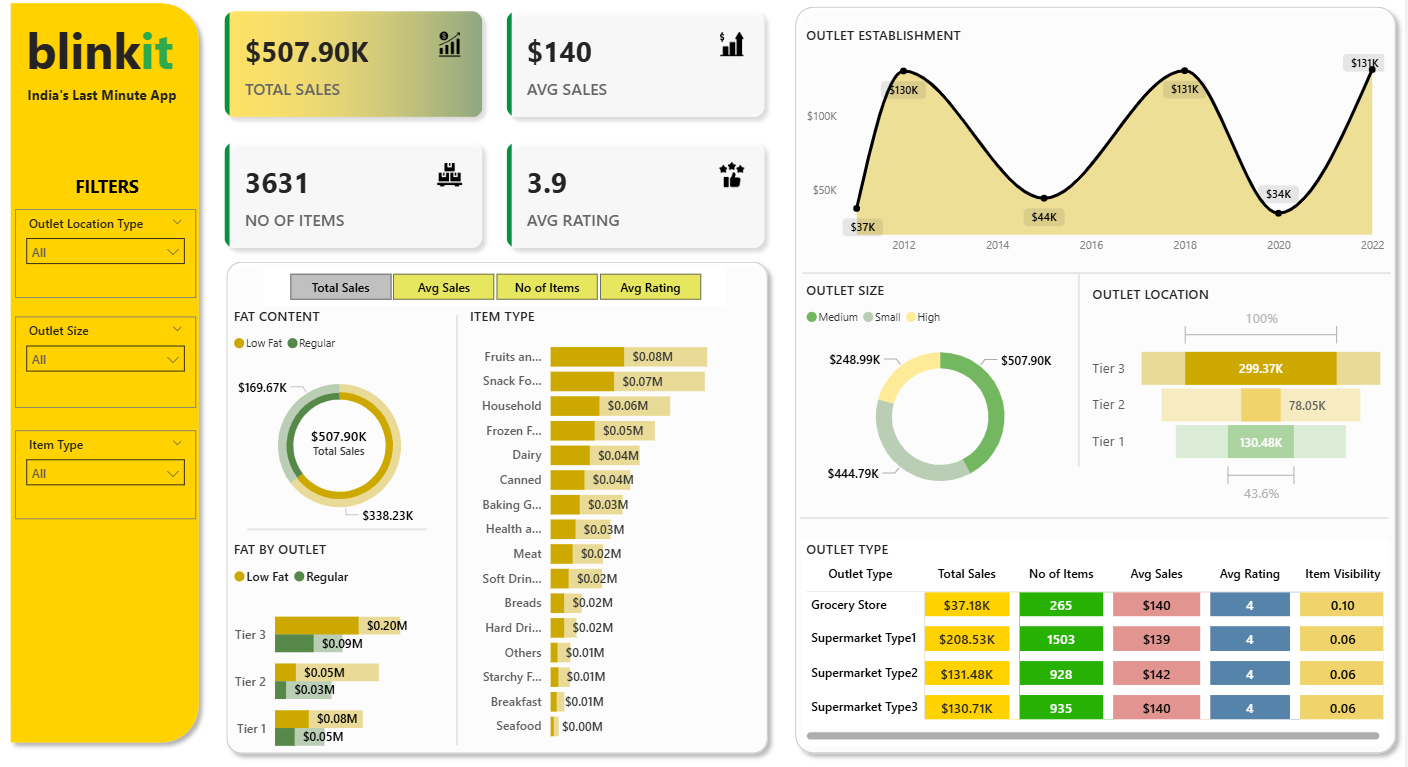

Layout of this report page (visuals, bound fields, positions):
{"tool":"powerbi","page":{"name":"Page 1","canvas":[1400,800],"ordinal":0},"visuals":[{"type":"shape","box":[10.9,15,204.5,749.8],"z":0},{"type":"textbox","box":[31.4,32.7,165,83.2],"z":1000},{"type":"textbox","box":[28.9,98.7,167.1,34.2],"z":2000},{"type":"cardVisual","fields":{"Data":["BlinkIT Grocery Data.Total Sales","BlinkIT Grocery Data.Avg Sales","BlinkIT Grocery Data.No of Items","BlinkIT Grocery Data.Avg Rating"]},"box":[215.4,15,569.9,269.9],"z":3000},{"type":"shape","box":[225,271.3,553.5,504.4],"z":4000},{"type":"donutChart","title":"FAT CONTENT","fields":{"Y":["BlinkIT Grocery Data.Total Sales"],"Category":["BlinkIT Grocery Data.Item Fat Content"]},"box":[235.9,324.5,219.5,230.4],"z":5000},{"type":"slicer","fields":{"Values":["Metrics.Metrics"]},"box":[271.3,284.9,456.7,39.5],"z":6000},{"type":"cardVisual","fields":{"Data":["BlinkIT Grocery Data.Total Sales"]},"box":[298.6,425.4,94.1,62.7],"z":7000},{"type":"clusteredBarChart","title":"FAT BY OUTLET","fields":{"Y":["BlinkIT Grocery Data.Total Sales"],"Category":["BlinkIT Grocery Data.Outlet Location Type"],"Series":["BlinkIT Grocery Data.Item Fat Content"]},"box":[236.8,553.9,219.7,230.3],"z":8000},{"type":"shape","box":[254.9,534.4,177.2,20.5],"z":9000},{"type":"shape","box":[454,332.7,16.4,425.4],"z":10000},{"type":"barChart","title":"ITEM TYPE","fields":{"Y":["BlinkIT Grocery Data.Total Sales"],"Category":["BlinkIT Grocery Data.Item Type"]},"box":[470.4,324.5,286.3,440.4],"z":11000},{"type":"shape","box":[788,19.1,612.1,756.7],"z":12000},{"type":"lineChart","title":"OUTLET ESTABLISHMENT","fields":{"Y":["BlinkIT Grocery Data.Total Sales"],"Category":["BlinkIT Grocery Data.Outlet Establishment Year"]},"box":[803,46.4,582.1,234.5],"z":13000},{"type":"shape","box":[804.4,280.8,582.1,20.5],"z":14000},{"type":"donutChart","title":"OUTLET SIZE","fields":{"Y":["BlinkIT Grocery Data.Total Sales"],"Category":["BlinkIT Grocery Data.Outlet Size"]},"box":[803,298.6,275.4,225],"z":15000},{"type":"shape","box":[1070.2,290.4,15,192.2],"z":16000},{"type":"funnel","title":"OUTLET LOCATION","fields":{"Y":["Sum(BlinkIT Grocery Data.Sales)"],"Category":["BlinkIT Grocery Data.Outlet Location Type"]},"box":[1086.6,301.3,299.9,222.2],"z":17000},{"type":"shape","box":[801.6,523.5,582.1,20.5],"z":18000},{"type":"pivotTable","title":"OUTLET TYPE","fields":{"Rows":["BlinkIT Grocery Data.Outlet Type"],"Values":["BlinkIT Grocery Data.Total Sales","BlinkIT Grocery Data.No of Items","BlinkIT Grocery Data.Avg Sales","BlinkIT Grocery Data.Avg Rating","Avg(BlinkIT Grocery Data.Item Visibility)"]},"box":[803,553.5,580.8,204.5],"z":19000},{"type":"slicer","fields":{"Values":["BlinkIT Grocery Data.Outlet Location Type"]},"box":[25,227.6,178.9,88.2],"z":20000},{"type":"slicer","fields":{"Values":["BlinkIT Grocery Data.Outlet Size"]},"box":[25,334.2,178.9,90.8],"z":21000},{"type":"slicer","fields":{"Values":["BlinkIT Grocery Data.Item Type"]},"box":[25,446.1,178.9,88.2],"z":22000},{"type":"shape","title":"FILTERS","box":[72.4,193.4,85.5,25],"z":23000}]}

Visuals, with their boxes on the page's 1400x800 design canvas (x1, y1, x2, y2). These are canvas units, not pixel positions in the 1408x767 screenshot, which may show the page scaled, cropped or inside an application window:
shape: (11,15,215,765)
textbox: (31,33,196,116)
textbox: (29,99,196,133)
cardVisual - BlinkIT Grocery Data.Total Sales x BlinkIT Grocery Data.Avg Sales: (215,15,785,285)
shape: (225,271,778,776)
"FAT CONTENT" donutChart: (236,324,455,555)
slicer - Metrics.Metrics: (271,285,728,324)
cardVisual - BlinkIT Grocery Data.Total Sales: (299,425,393,488)
"FAT BY OUTLET" clusteredBarChart: (237,554,456,784)
shape: (255,534,432,555)
shape: (454,333,470,758)
"ITEM TYPE" barChart: (470,324,757,765)
shape: (788,19,1400,776)
"OUTLET ESTABLISHMENT" lineChart: (803,46,1385,281)
shape: (804,281,1386,301)
"OUTLET SIZE" donutChart: (803,299,1078,524)
shape: (1070,290,1085,483)
"OUTLET LOCATION" funnel: (1087,301,1386,524)
shape: (802,524,1384,544)
"OUTLET TYPE" pivotTable: (803,554,1384,758)
slicer - BlinkIT Grocery Data.Outlet Location Type: (25,228,204,316)
slicer - BlinkIT Grocery Data.Outlet Size: (25,334,204,425)
slicer - BlinkIT Grocery Data.Item Type: (25,446,204,534)
"FILTERS" shape: (72,193,158,218)
